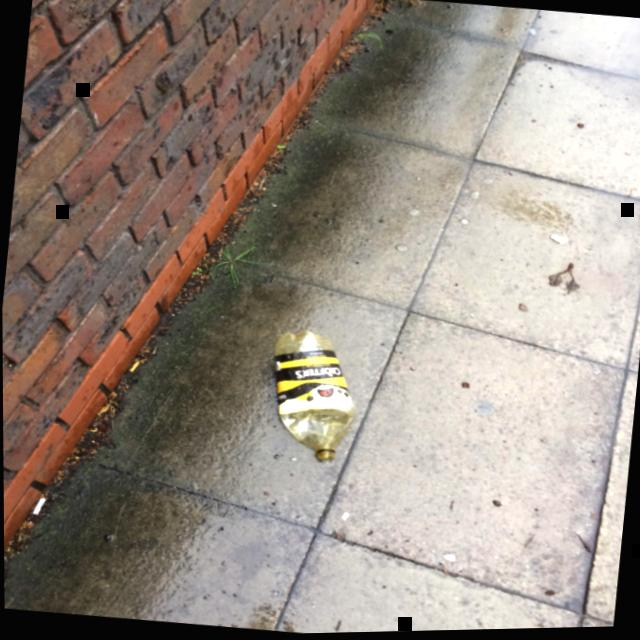Cigarette: (31, 497, 45, 514), (128, 362, 139, 373)
Clear plastic bottle: (274, 331, 357, 462)
